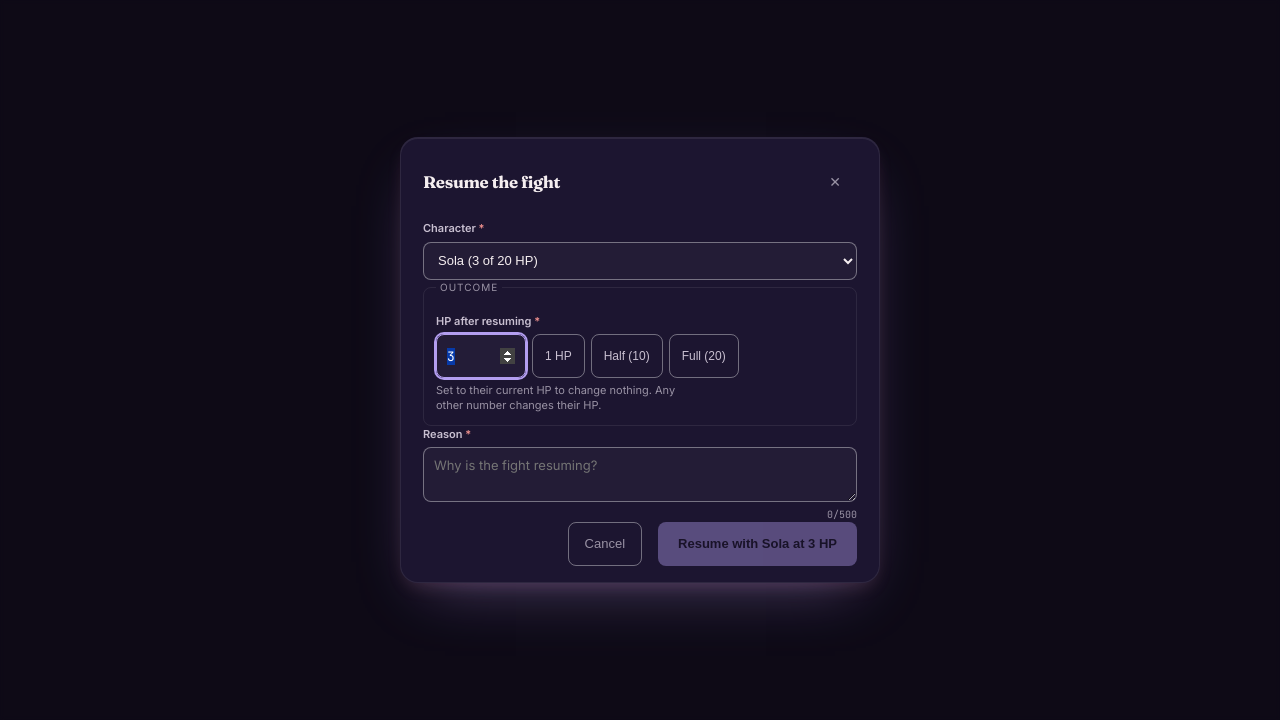
Test: held with a character standing › HP 0 is refused (a resume leaves a character above 0)
Replace the text in the number field labelled "HP after resuming *" with "0" at (481, 356), box [436, 334, 526, 378]
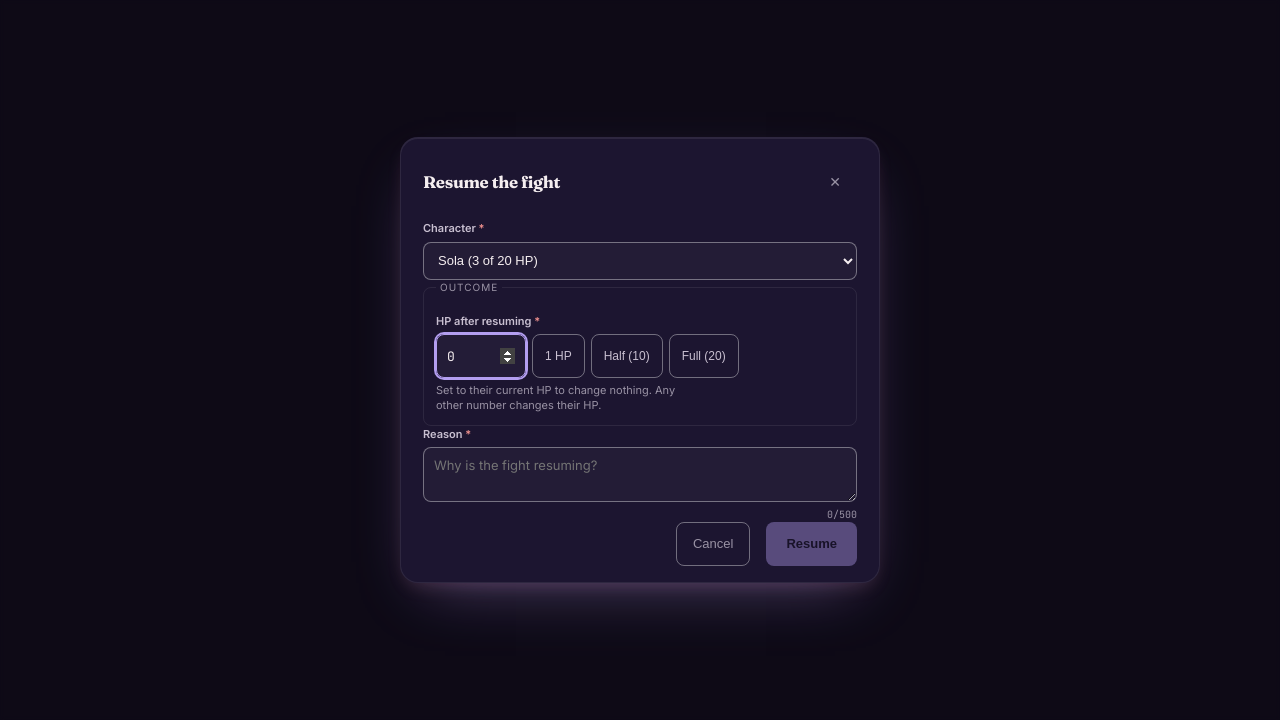
Type "x" into the text box labelled "Reason *".
click(640, 475); type("x")  # box [423, 447, 857, 502]
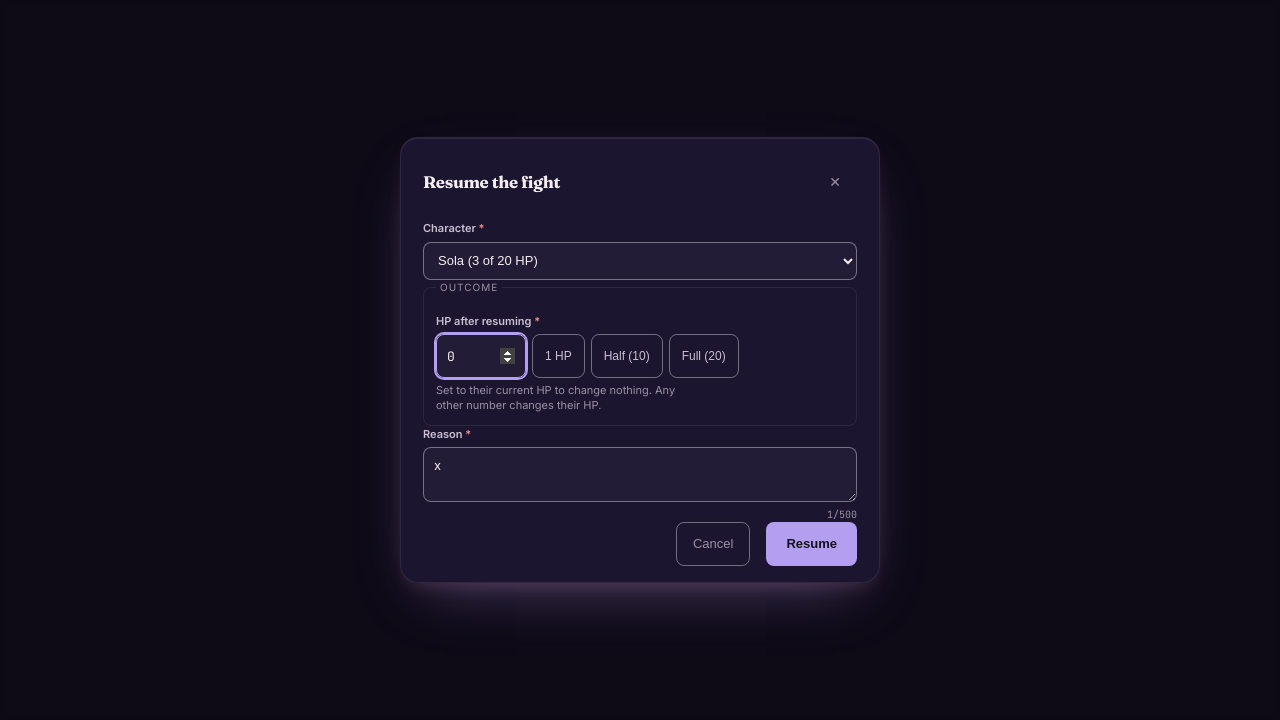
Click the submit button.
click(812, 544)  # box [766, 522, 857, 566]
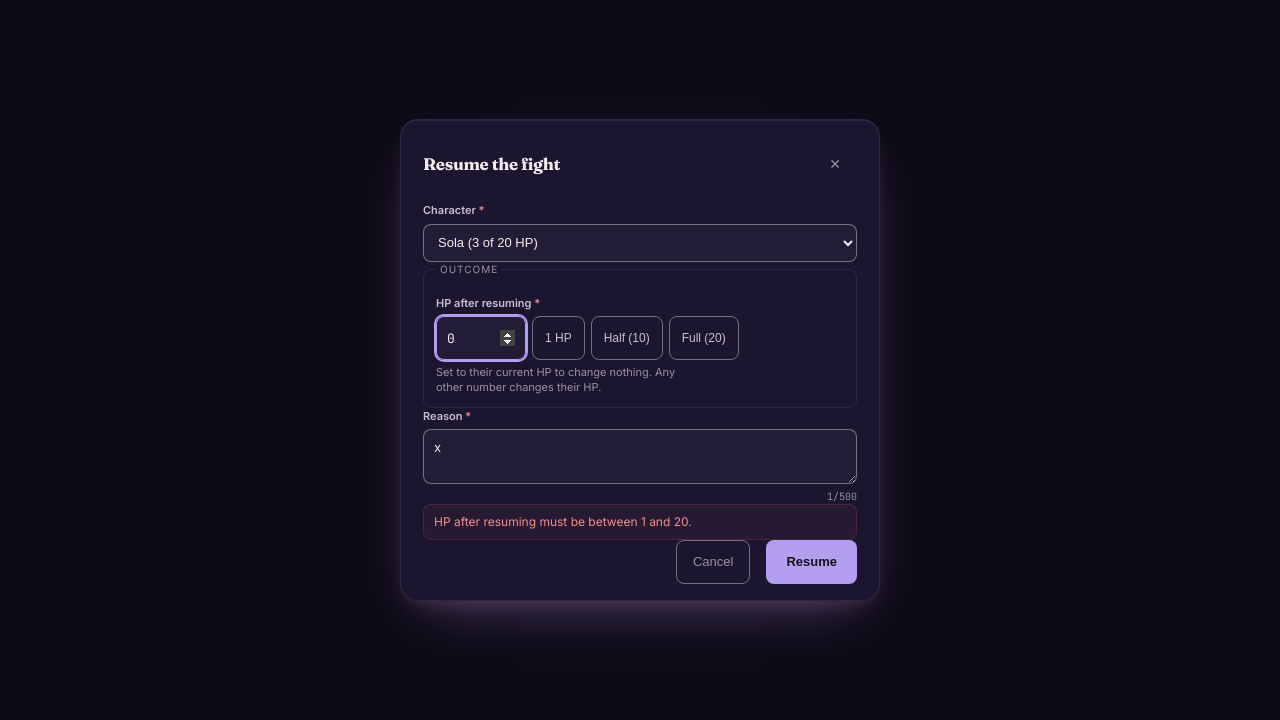
Check: the message shows "between 1 and 20", box [434, 514, 692, 529]
